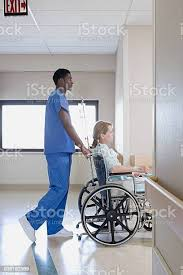wheelchair: (77, 120, 152, 246)
